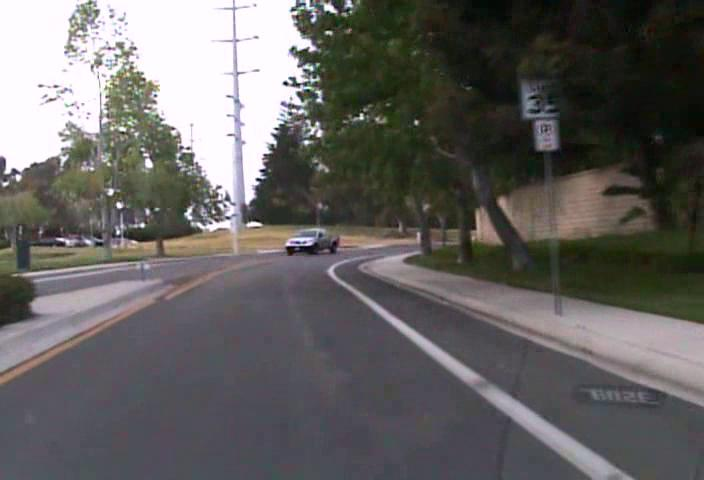speedLimit35: (520, 64, 566, 120)
